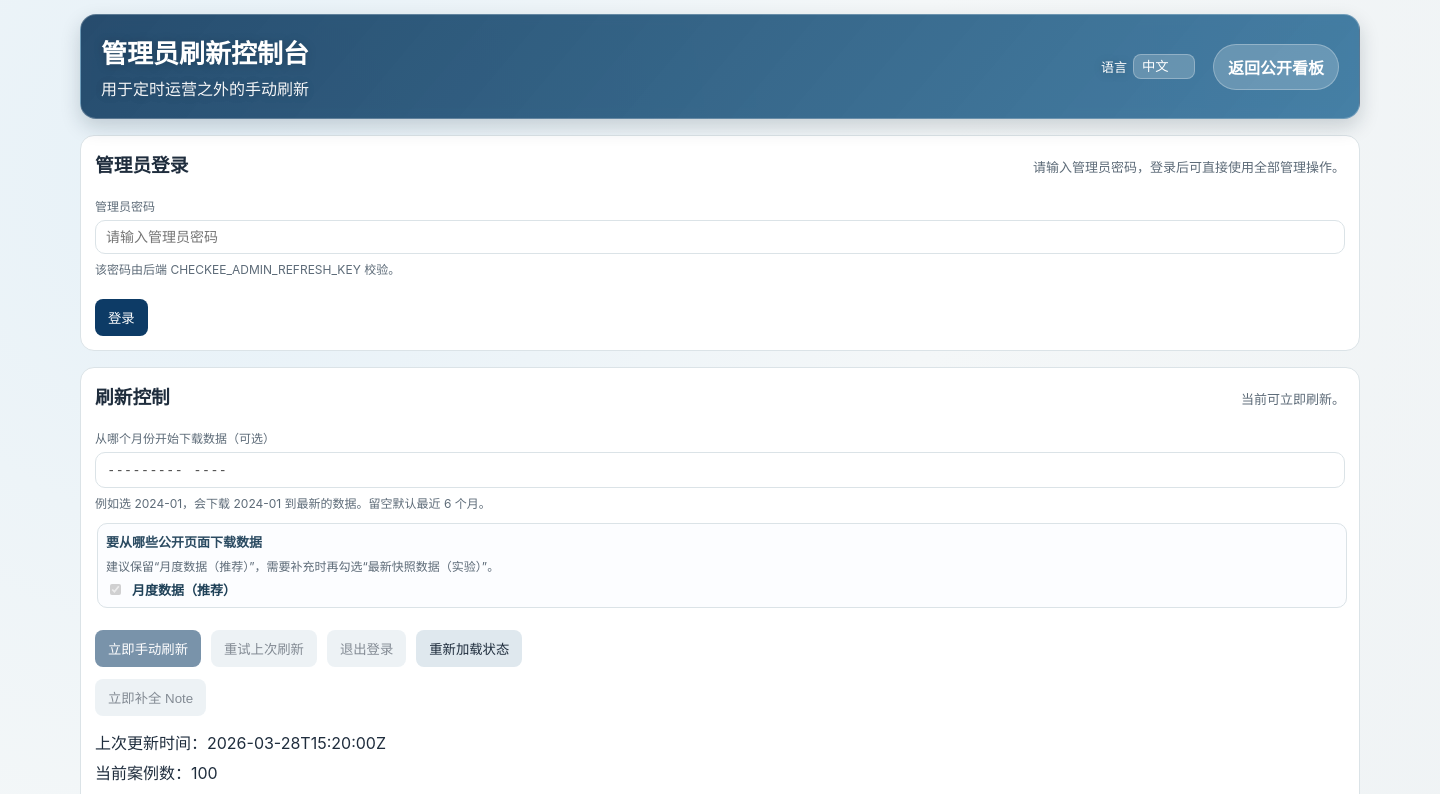
Test: AdminPage › 应保留移动端列隐藏所需 class 挂点
Type "Zcb070920!" into the password field with placeholder "请输入管理员密码". click: (720, 237)
box: x1=95 y1=220 x2=1345 y2=254
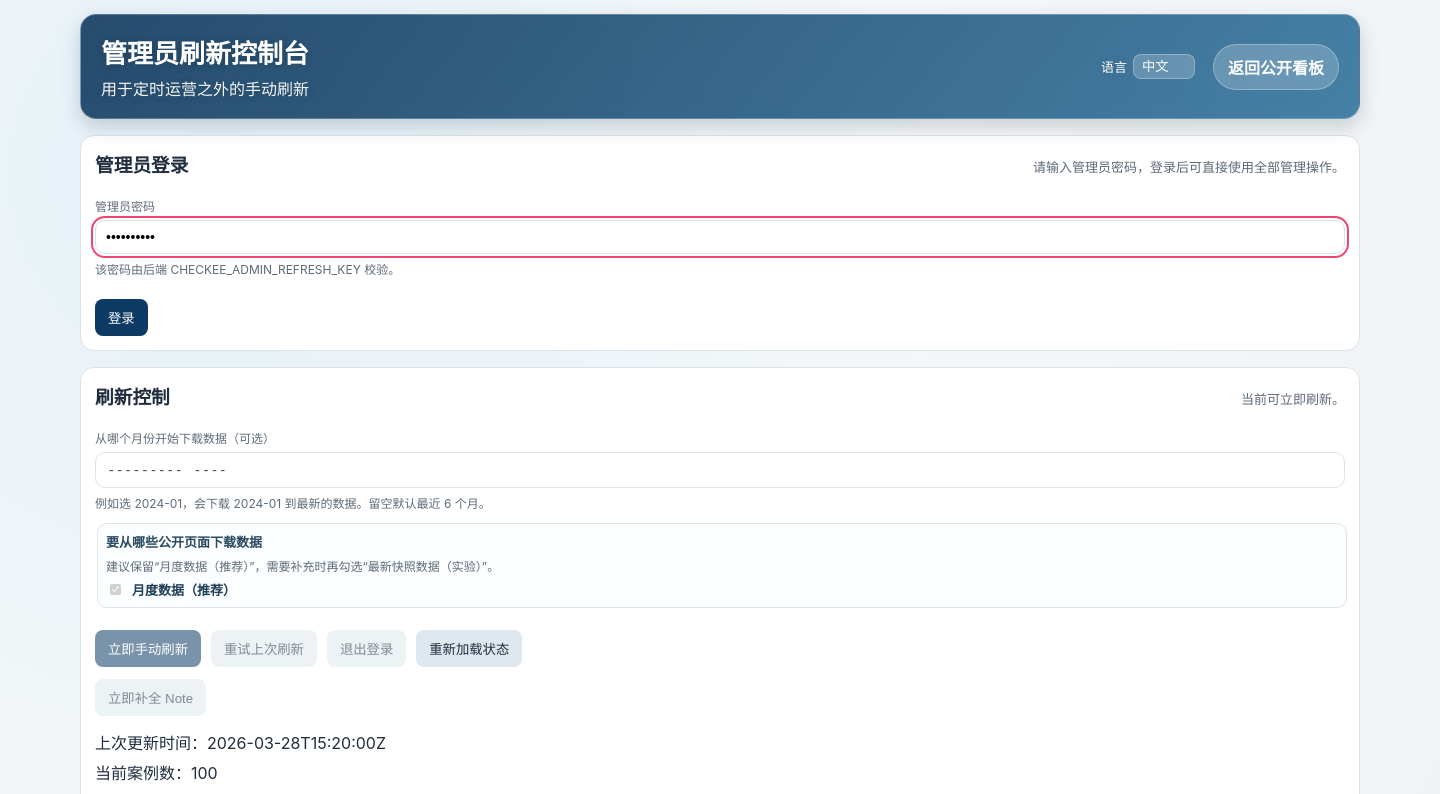
Click the button "登录". click: (121, 318)
box: x1=95 y1=299 x2=148 y2=336
(page scrolled)
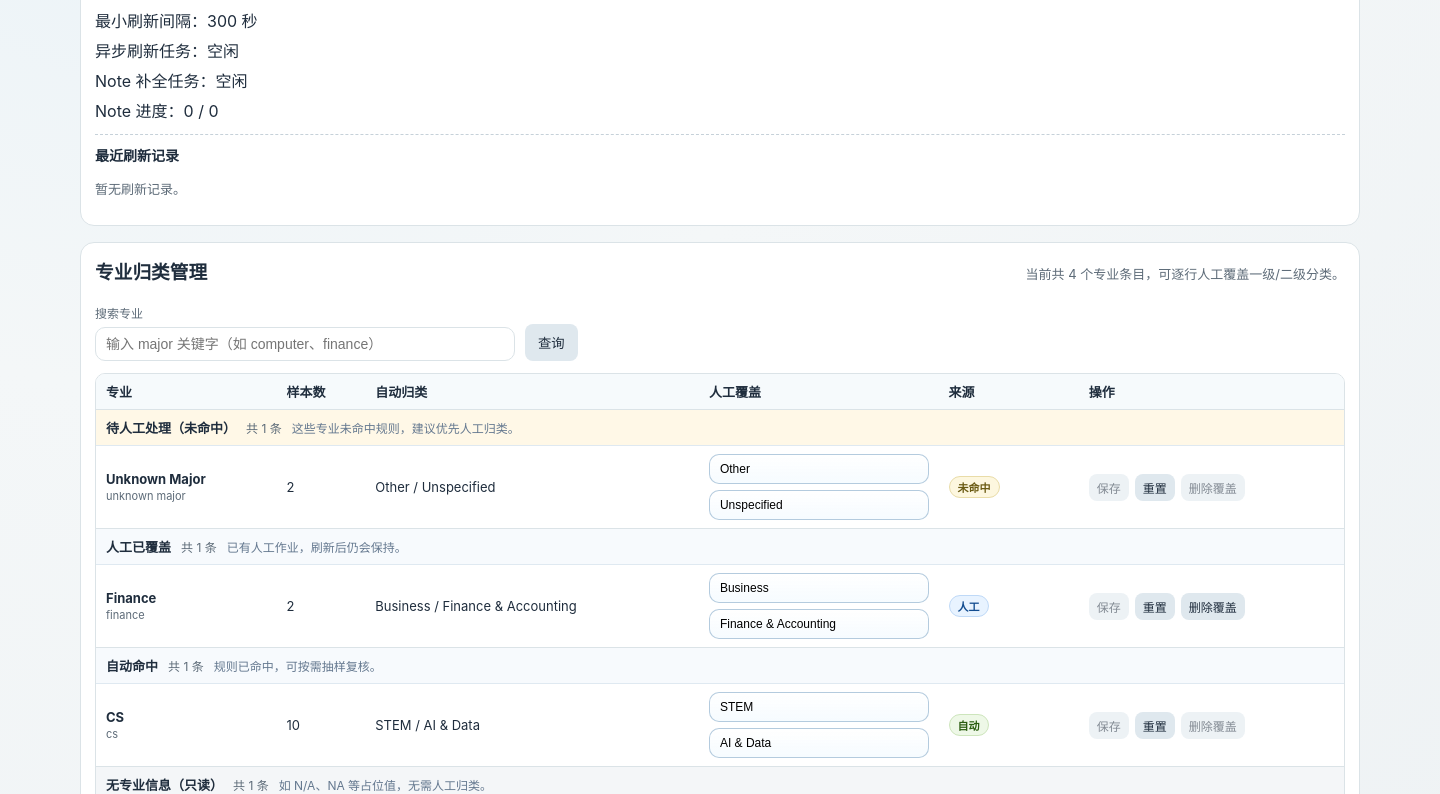
Result: the column heading "自动归类" is shown at x1=365 y1=374 x2=699 y2=410
Result: the column heading "来源" is shown at x1=938 y1=374 x2=1079 y2=410
